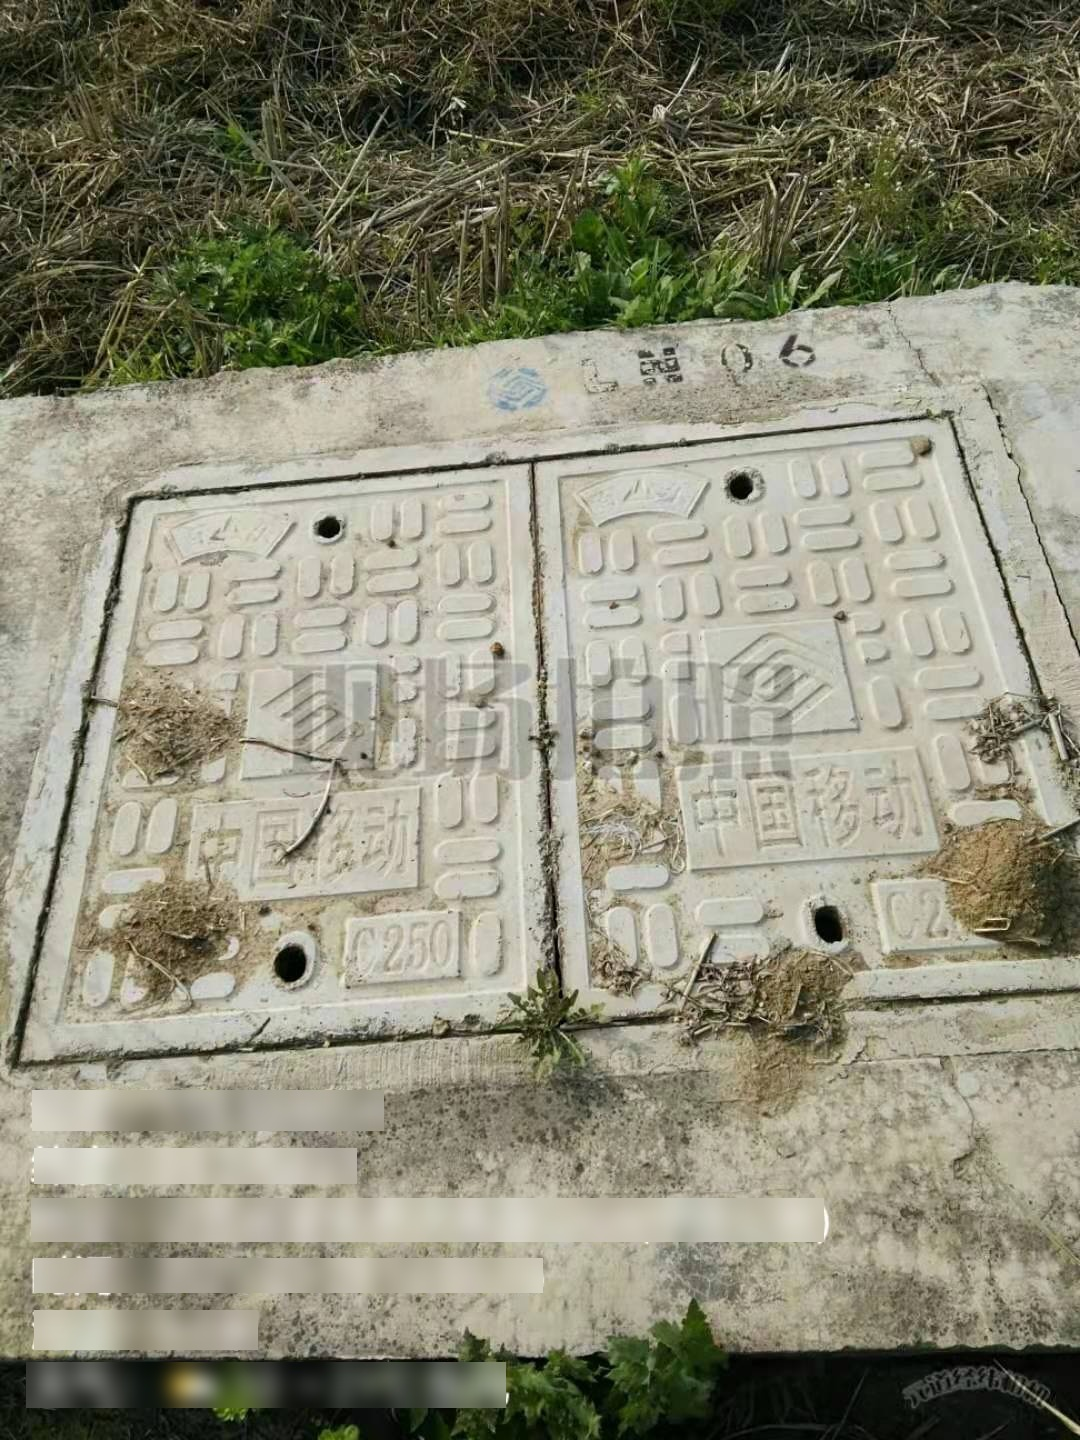good: (3, 379, 1080, 1100)
